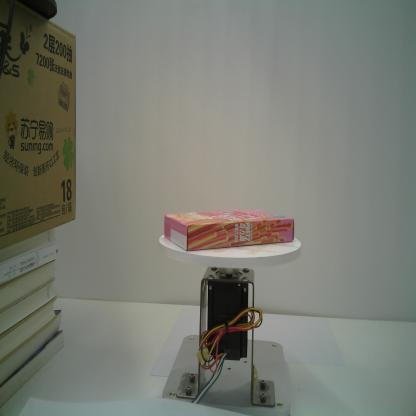Dessert: (163, 208, 295, 252)
